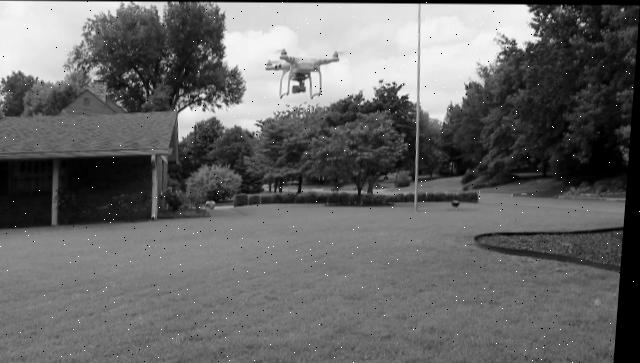drone: (261, 46, 344, 98)
